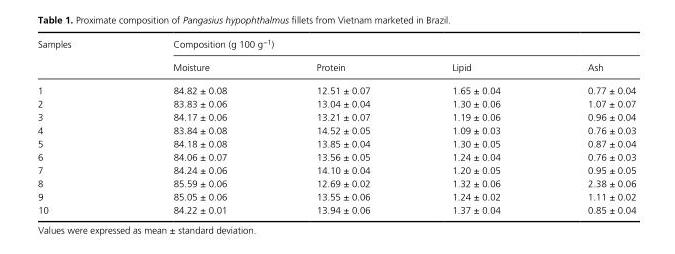table: (37, 37, 635, 214)
table column: (121, 37, 271, 214), (271, 37, 410, 214), (410, 37, 543, 214), (543, 37, 635, 214), (37, 37, 121, 214)
table column header: (37, 37, 635, 78)
table row: (37, 55, 635, 78), (37, 37, 635, 55), (37, 78, 635, 96), (37, 109, 635, 123), (37, 162, 635, 176), (37, 96, 635, 109), (37, 123, 635, 136), (37, 136, 635, 149), (37, 149, 635, 162), (37, 176, 635, 189), (37, 189, 635, 202), (37, 202, 635, 214)
table spanning cell: (121, 37, 635, 55), (37, 37, 121, 78)
